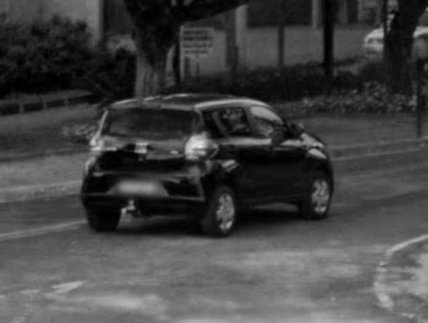car: (80, 75, 341, 247)
